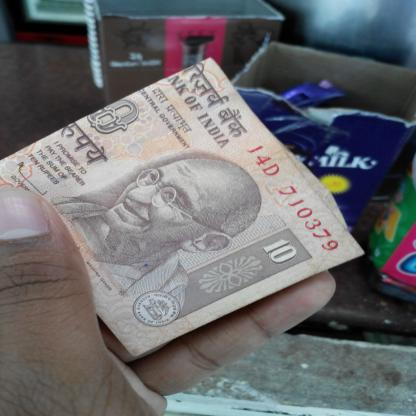Old10Front: (0, 56, 365, 358)
